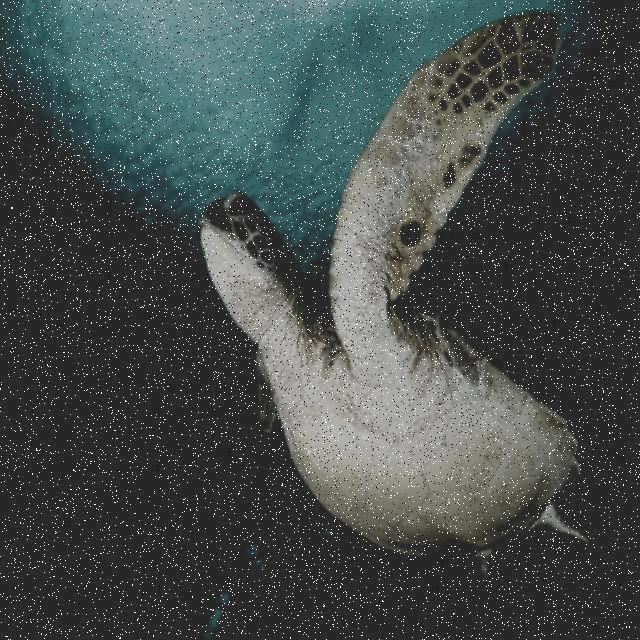tortoise: (193, 0, 625, 640)
